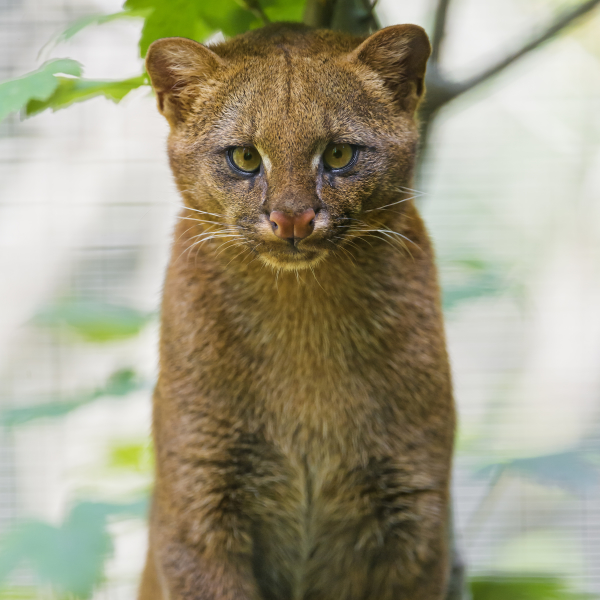Jaguarundi: (108, 14, 486, 600)
